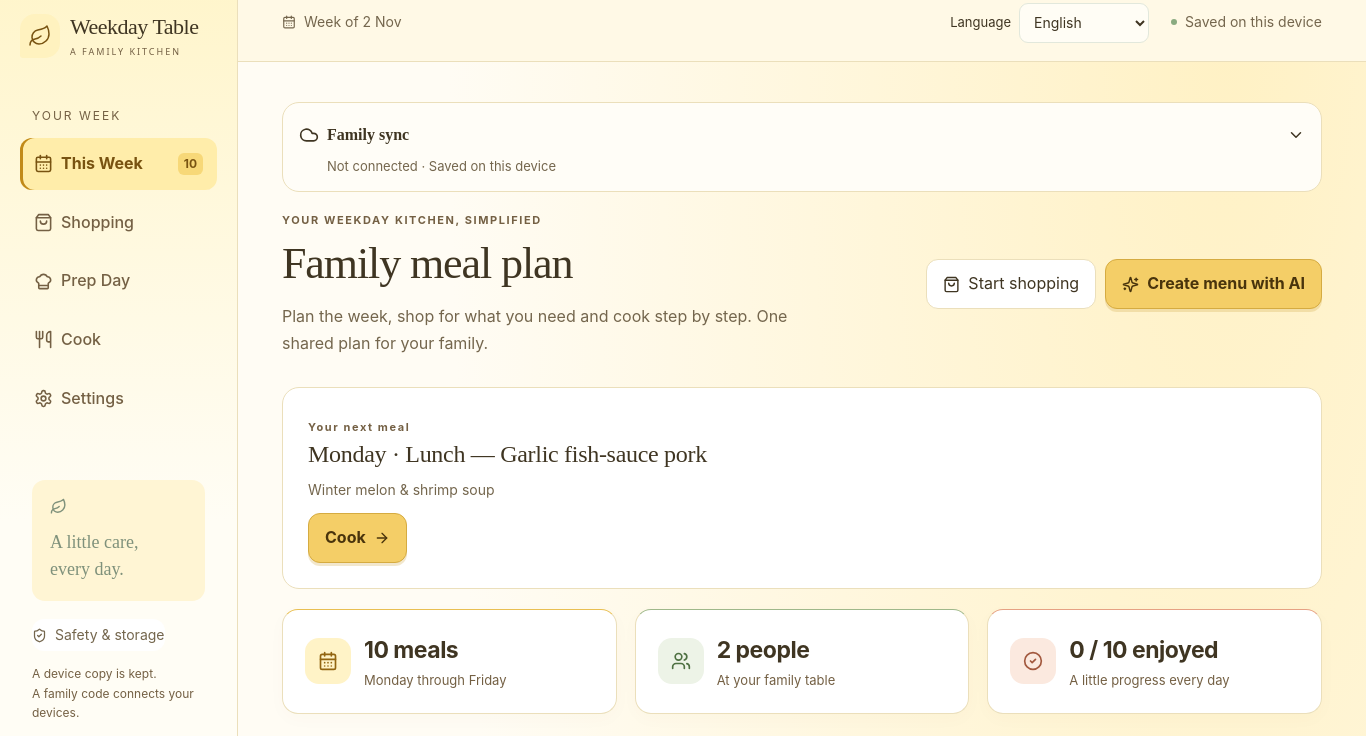
Scenario: React feature parity › renders ten meals, shopping checks and at-home exclusions
Check: the heading "Family meal plan" is shown, box [282,239,572,288]
Click the button "Shopping". click: (118, 223)
box: [20,197,217,248]
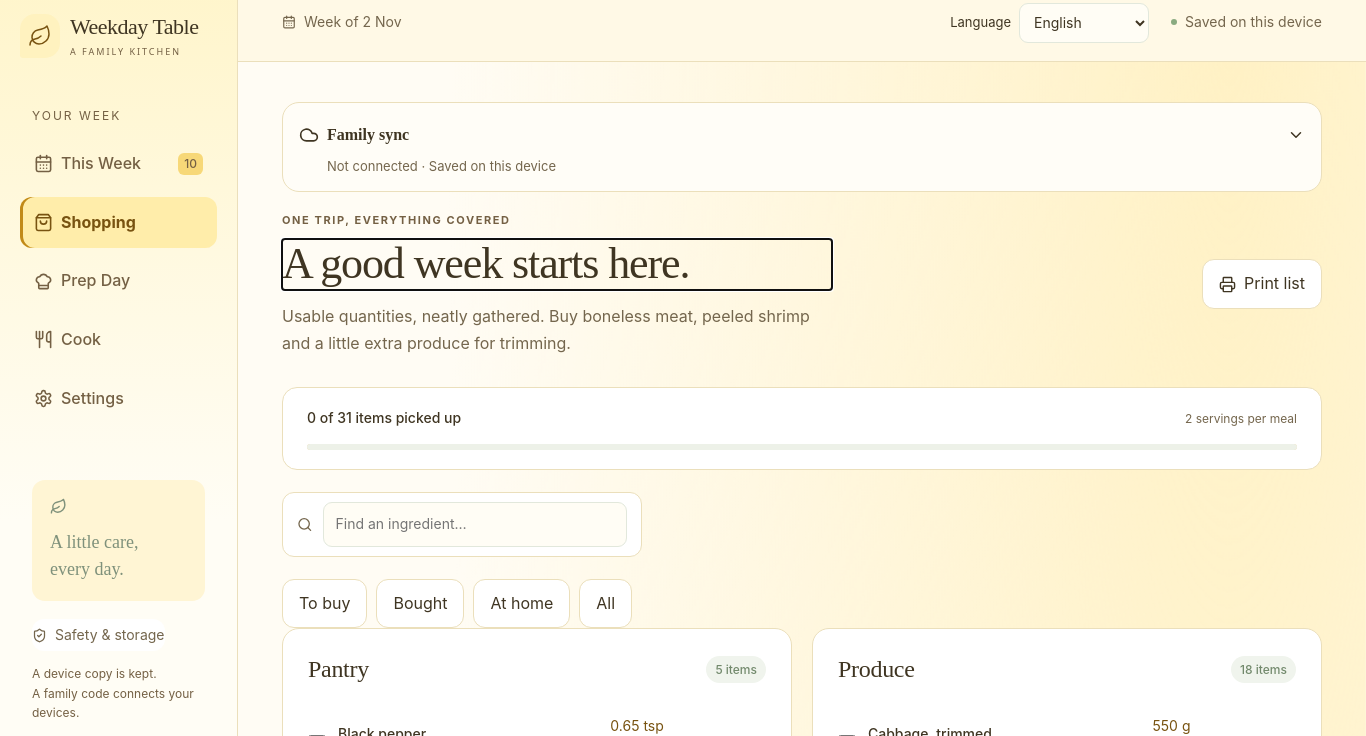
Click the button "All". click: (606, 604)
box: [579,579,632,628]
(page scrolled)
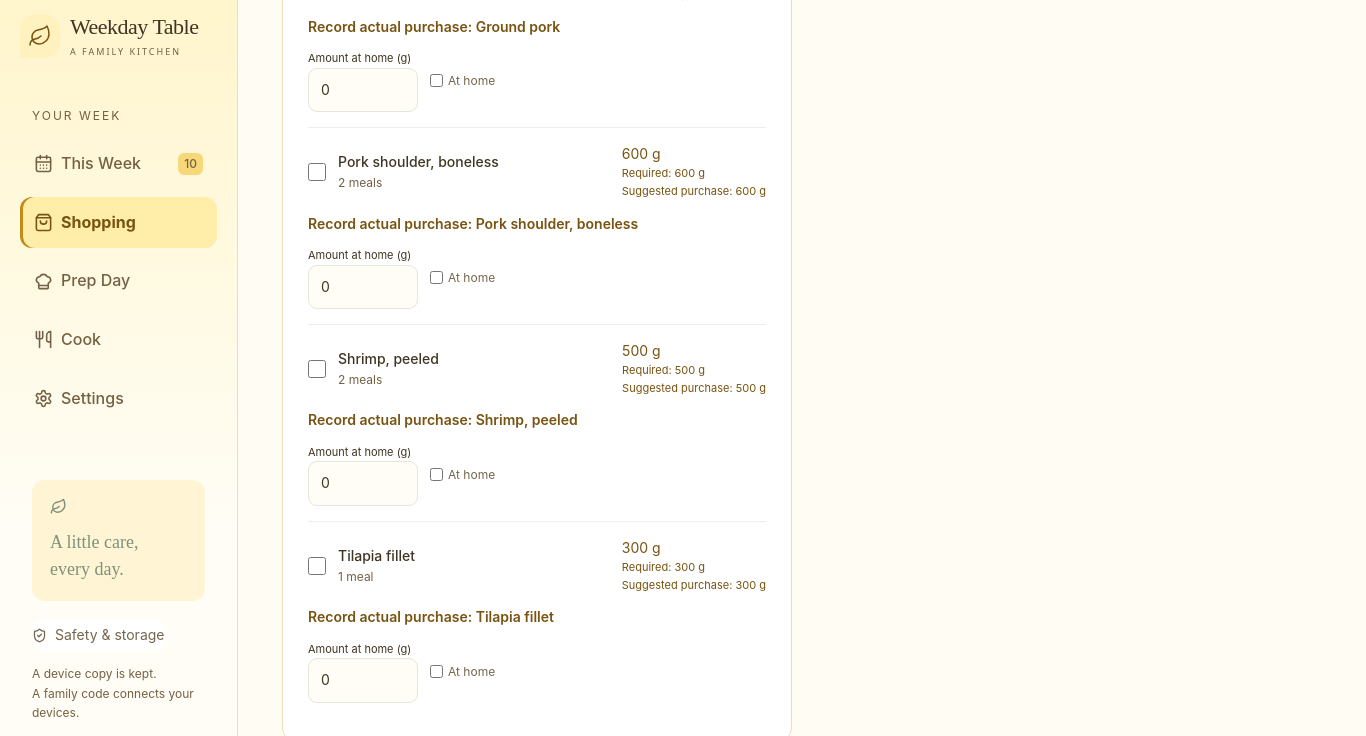
Check: the text "500 g" is shown, box [622,340,766,398]
Click the checkbox named "Bought Shrimp, peeled". click: (317, 369)
box: [308,360,326,378]
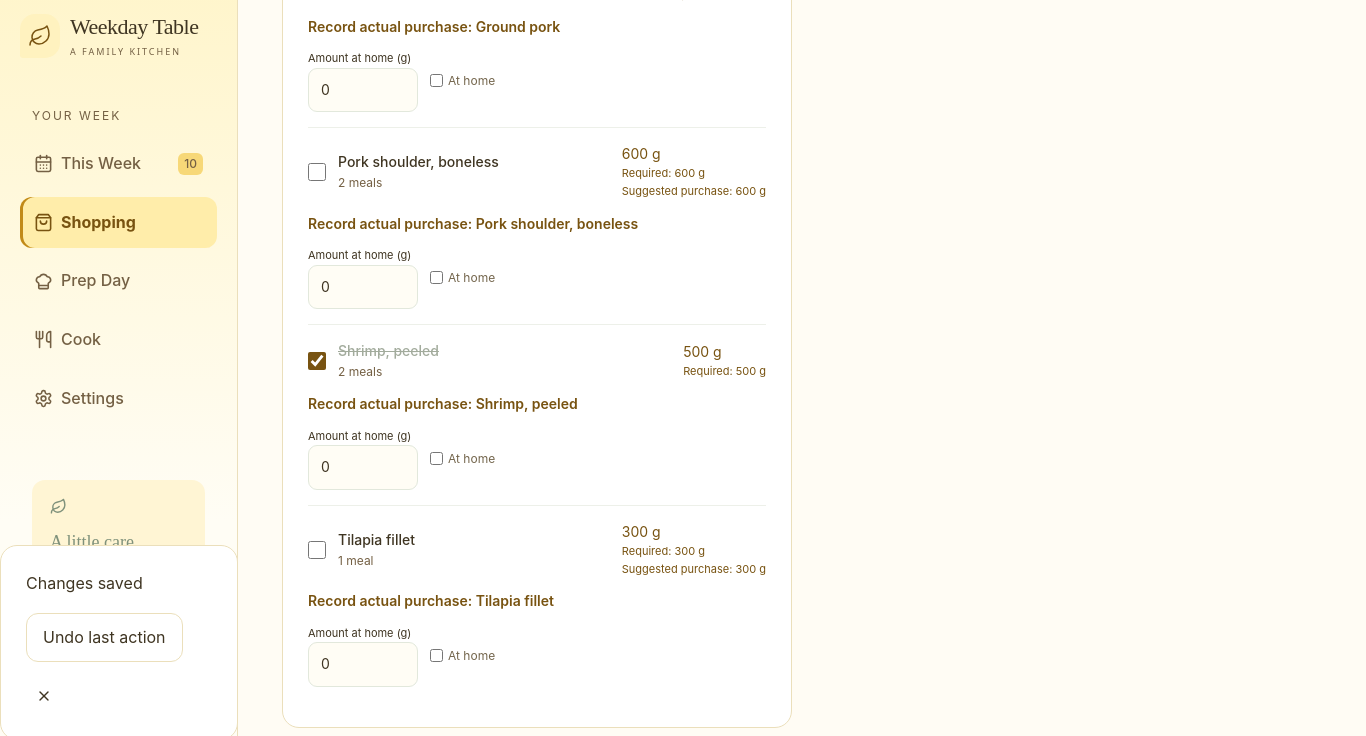
Check: the checkbox named "Bought Shrimp, peeled" is checked, box [308,352,326,370]
Click the 3rd checkbox labelled "At home". click: (436, 459)
box: [430,452,443,465]
(page scrolled)
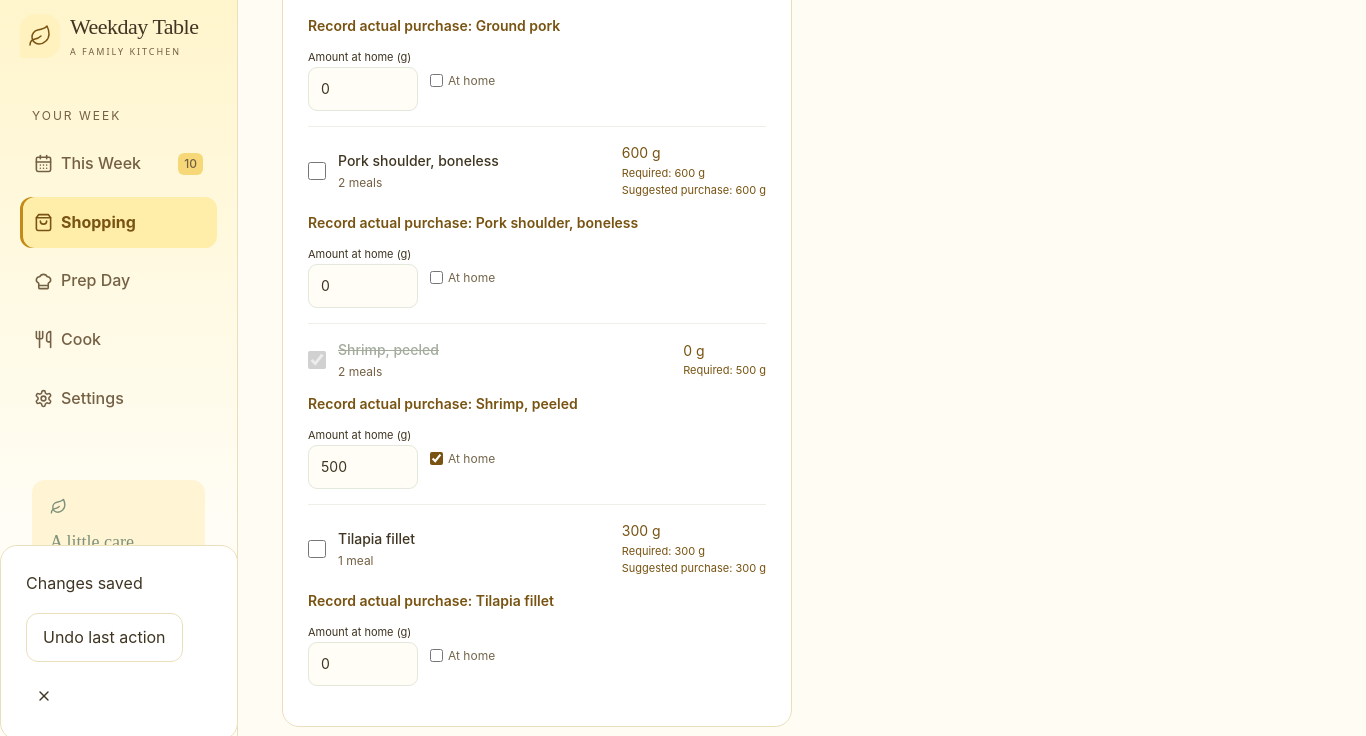
Check: the checkbox named "Bought Shrimp, peeled" is disabled, box [308,351,326,369]
